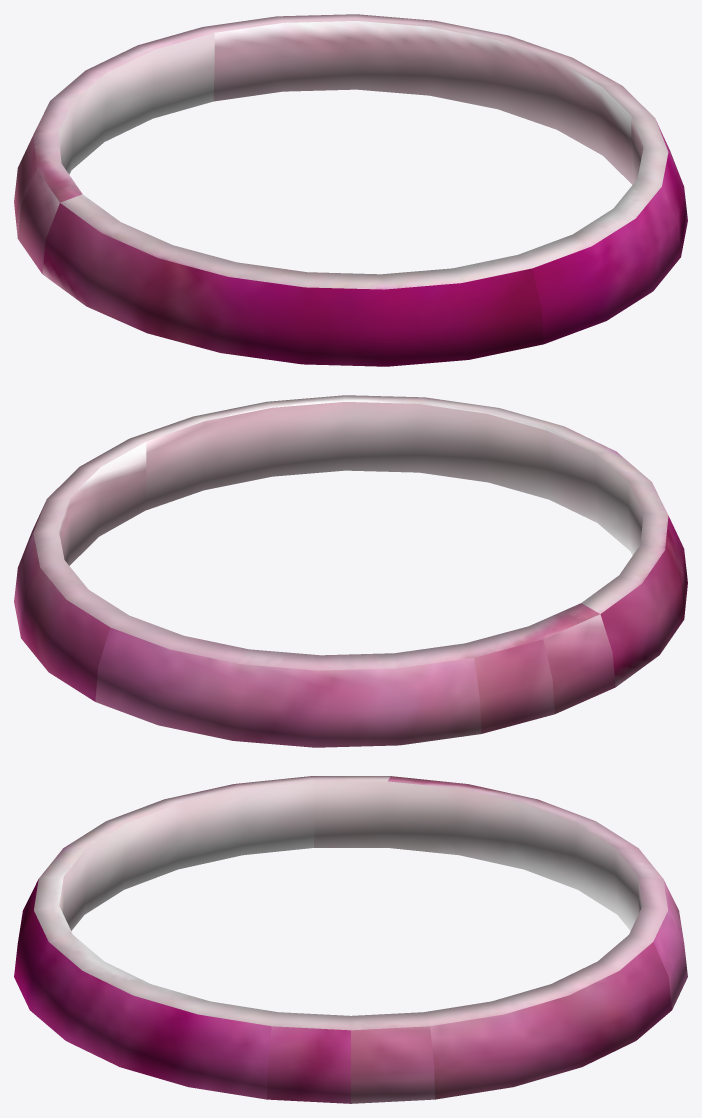
The model's file is onion.fbx.
3 views of the same model, one above another, from view 1: azimuth 30°, elevation 25°; view 2: azimuth 150°, elevation 25°; view 3: azimuth 270°, elevation 25° (orthographic). The views are drawn at different scales.
Parts seen in each view (by area): view 1: onion; view 2: onion; view 3: onion.
Boxes of the visible parts, left/top/right/bottom form: onion: left=14, top=14, right=687, bottom=366; onion: left=14, top=395, right=687, bottom=747; onion: left=14, top=776, right=687, bottom=1103.
Bounding box in the file's own units: 6.6 × 0.803 × 6.97.
1 material, 1 textured.
